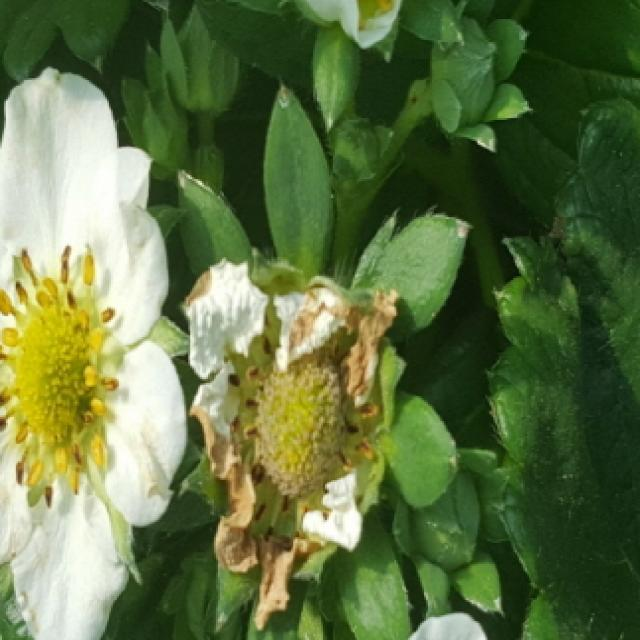Blossom Blight: (214, 297, 383, 553), (0, 240, 124, 511)
